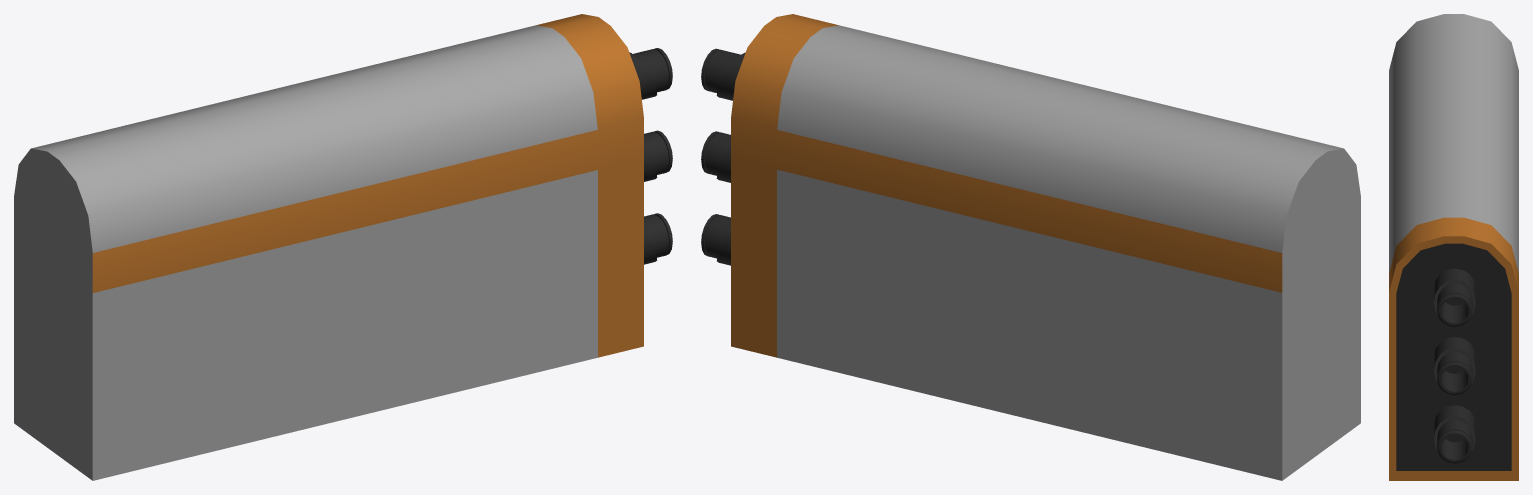
Rendered from Barrel_AR_1.fbx.
3 renders of one model, left to right at view 1: azimuth 30°, elevation 25°; view 2: azimuth 150°, elevation 25°; view 3: azimuth 270°, elevation 25°, orthographic. The views are drawn at different scales.
Parts seen in each view (by area): view 1: Barrel_AR_1; view 2: Barrel_AR_1; view 3: Barrel_AR_1.
Part boxes in pixels (box(x1,y1,x2,y2)): Barrel_AR_1: box(14, 14, 672, 480); Barrel_AR_1: box(701, 14, 1360, 480); Barrel_AR_1: box(1389, 14, 1518, 480).
Size of the model in its own units: 51.38 by 23.84 by 11.47.
